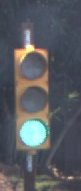Green: (14, 42, 58, 156)
